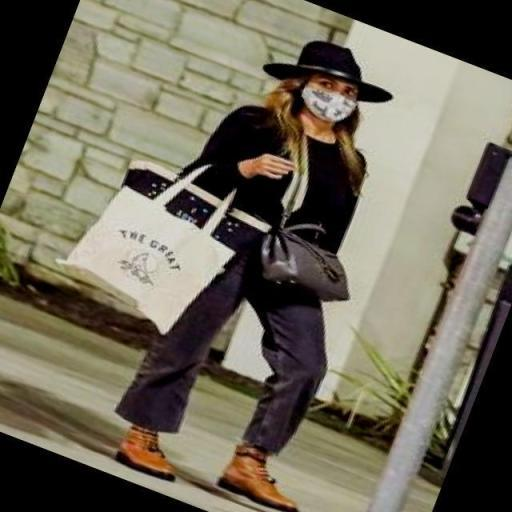bag: (70, 176, 238, 332), (250, 216, 360, 312)
